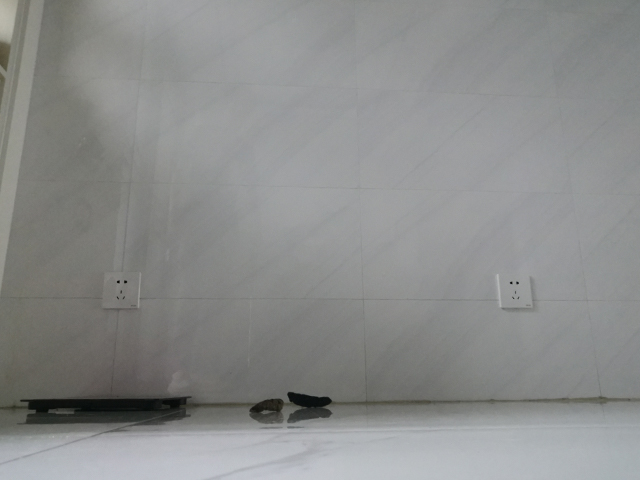feces: (286, 391, 334, 409), (248, 397, 285, 415)
